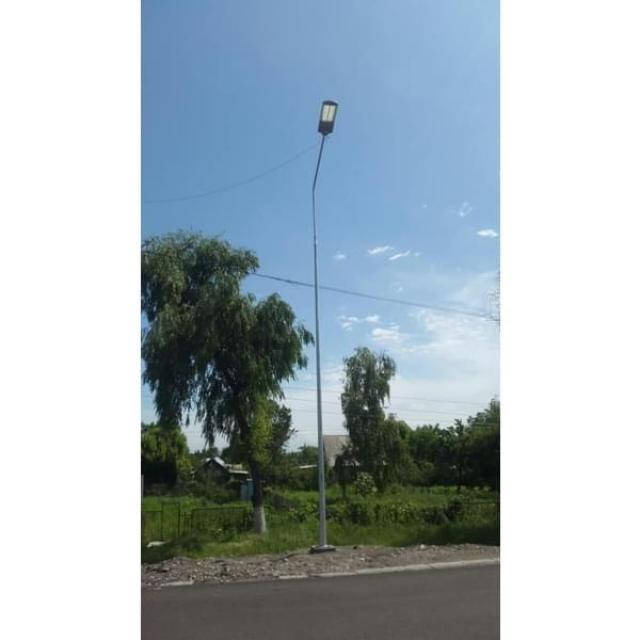pole: (312, 330, 330, 557)
